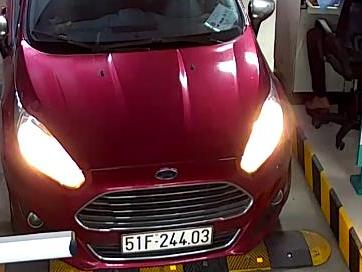number: (121, 225, 213, 249)
